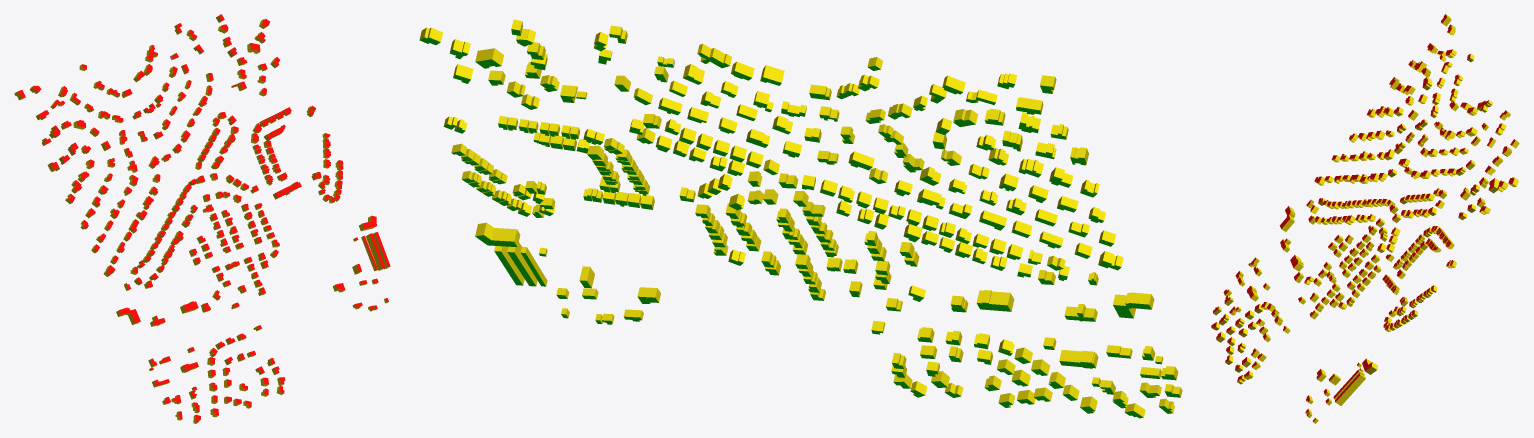
3 renders of one model, left to right at view 1: azimuth 30°, elevation 25°; view 2: azimuth 150°, elevation 25°; view 3: azimuth 270°, elevation 25°, orthographic. The views are drawn at different scales.
Visible parts, largest first — view 1: mesh; view 2: mesh; view 3: mesh.
Boxes of the visible parts, x1,y1,x2,y2 form: mesh: [14, 14, 390, 423]; mesh: [419, 19, 1182, 418]; mesh: [1211, 14, 1519, 423].
Size of the model in its own units: 1062 by 853 by 835.
